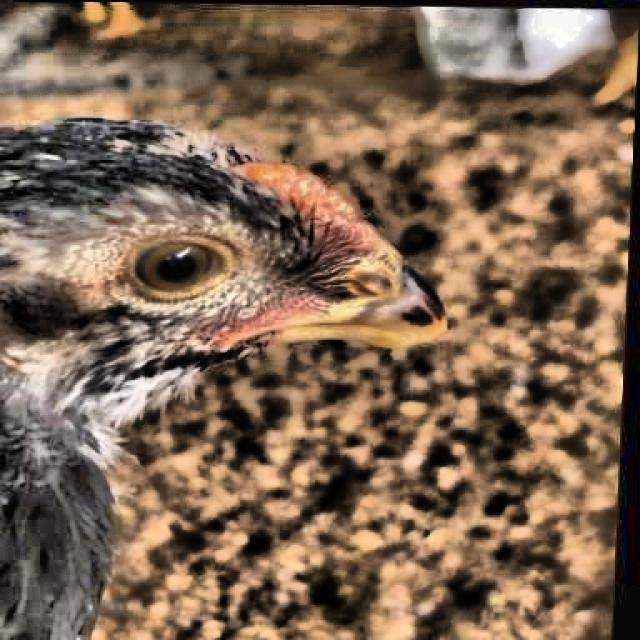Healthy: (113, 230, 245, 325)
